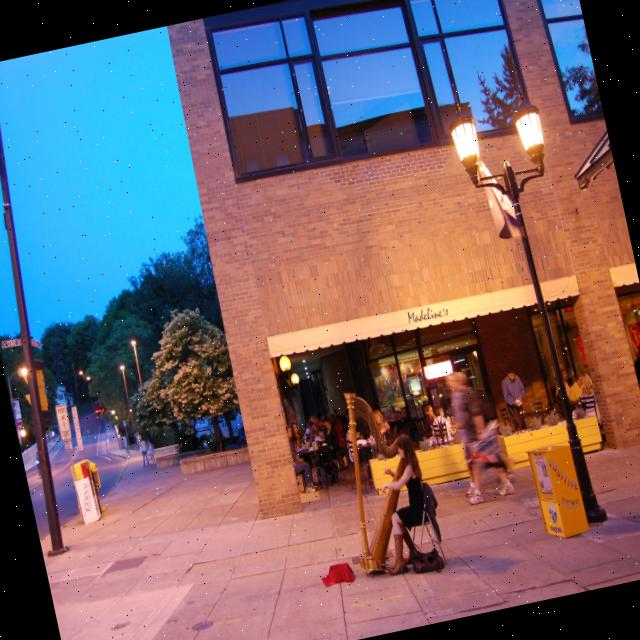harp: (318, 380, 430, 581)
